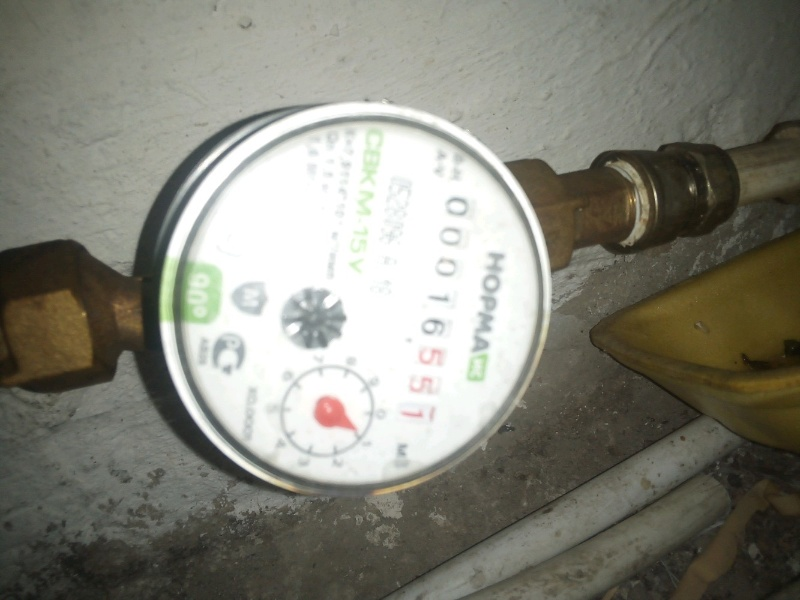meter: (397, 202, 470, 439)
